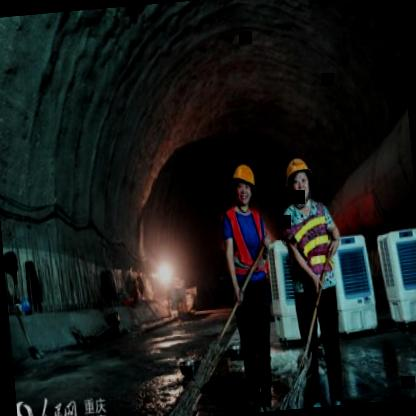helmet: (280, 150, 316, 206), (228, 157, 260, 210)
